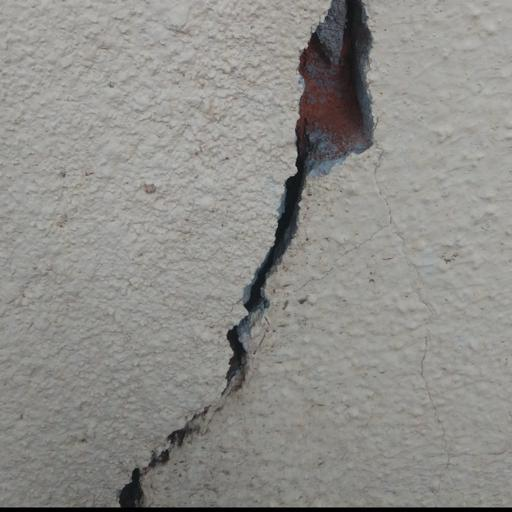major_crack: (116, 0, 391, 509)
